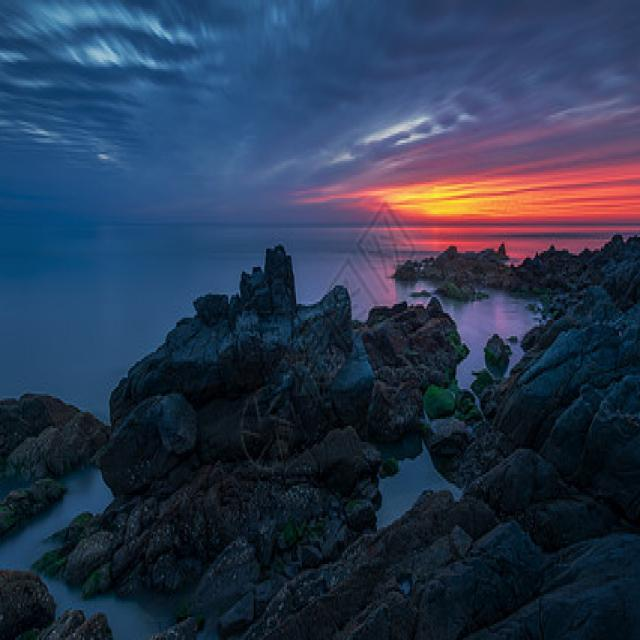reef: (75, 270, 481, 584)
